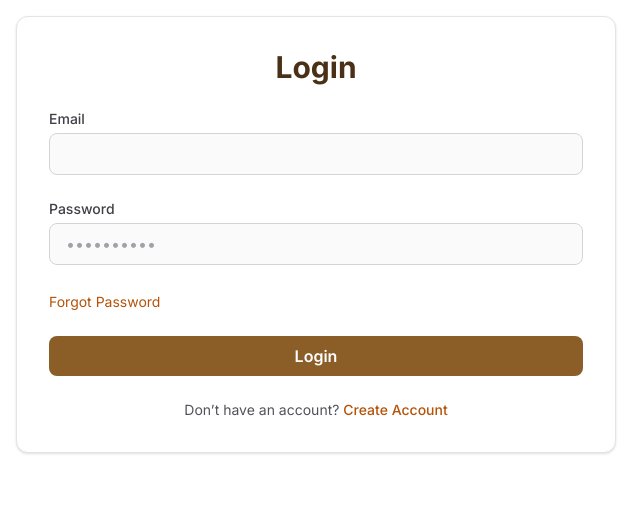
Test: LoginClient › displays validation errors on empty submit
Click the button "Login". click: (316, 356)
box: [49, 336, 583, 376]
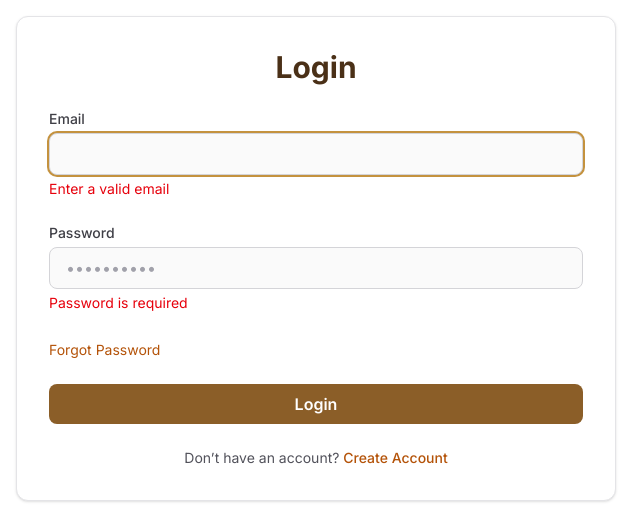
Now the text "Enter a valid email" is shown, box [49, 180, 169, 197]
Now the text "Password is required" is shown, box [49, 294, 188, 311]
